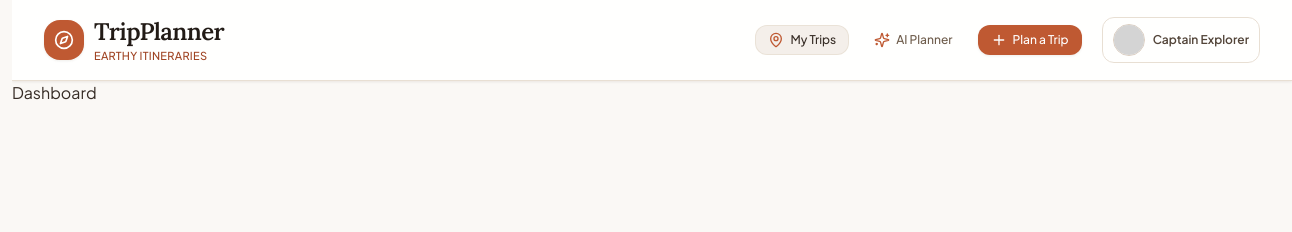
Test case: Authentication & Profile Flows › renders navbar user menu and supports logout
Expected: the text "My Trips" is shown, [790,32,836,48]
Step 1. Click the button with aria-label "user menu" → (1181, 40), box [1102,17,1260,63]
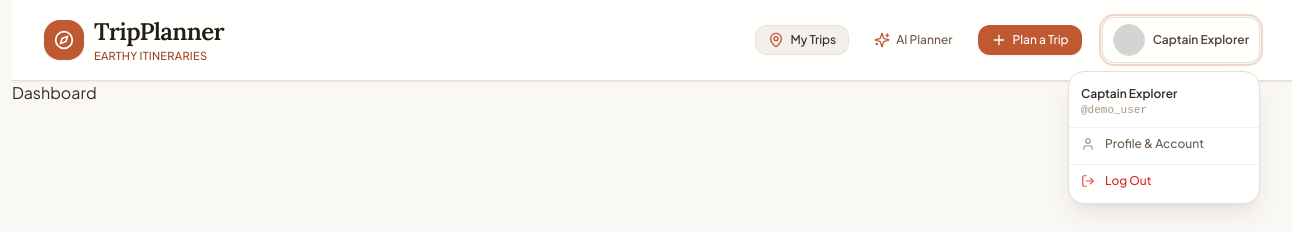
Step 2. Click the button "Log Out" → (1164, 180), box [1069,164,1259,196]
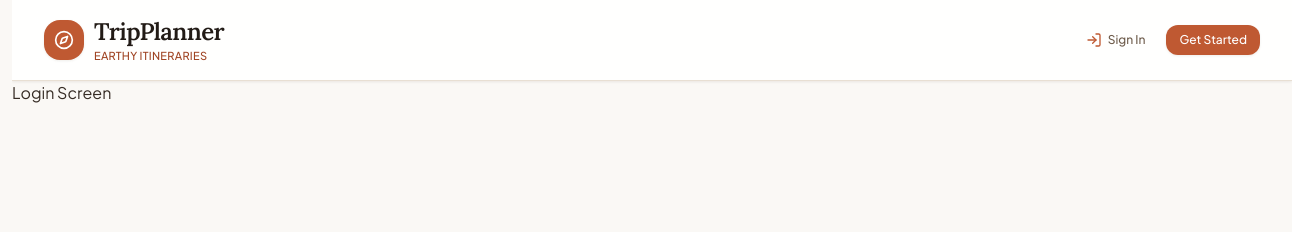
Expected: the text "Login Screen" is shown, [12,82,111,103]
